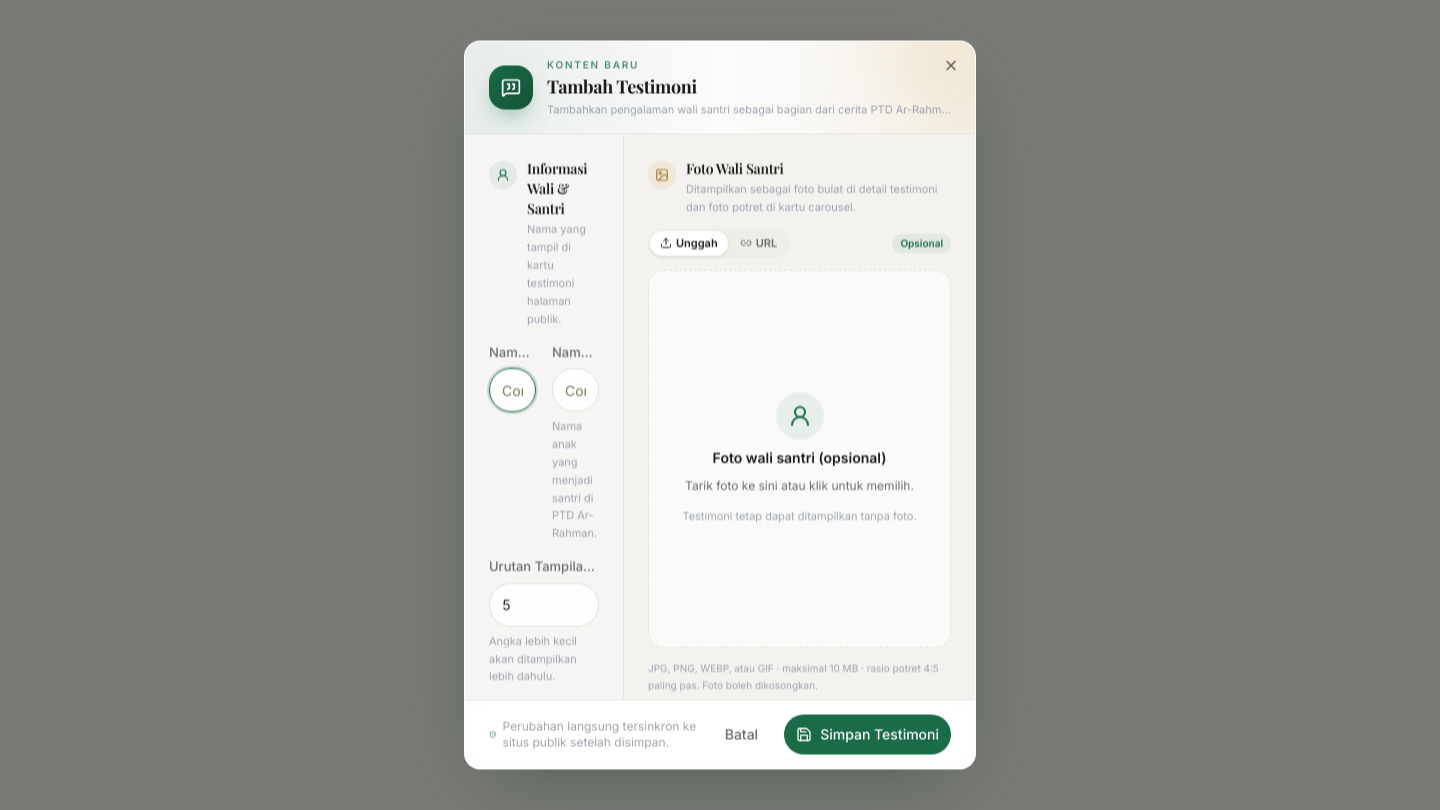
Test: TestimonialFormDialog — validasi › mewajibkan nama wali dan nama santri lalu memfokuskan field pertama
The image size is (1440, 810).
Click the button "Simpan Testimoni" at x=868, y=734, box left=784, top=714, right=951, bottom=754
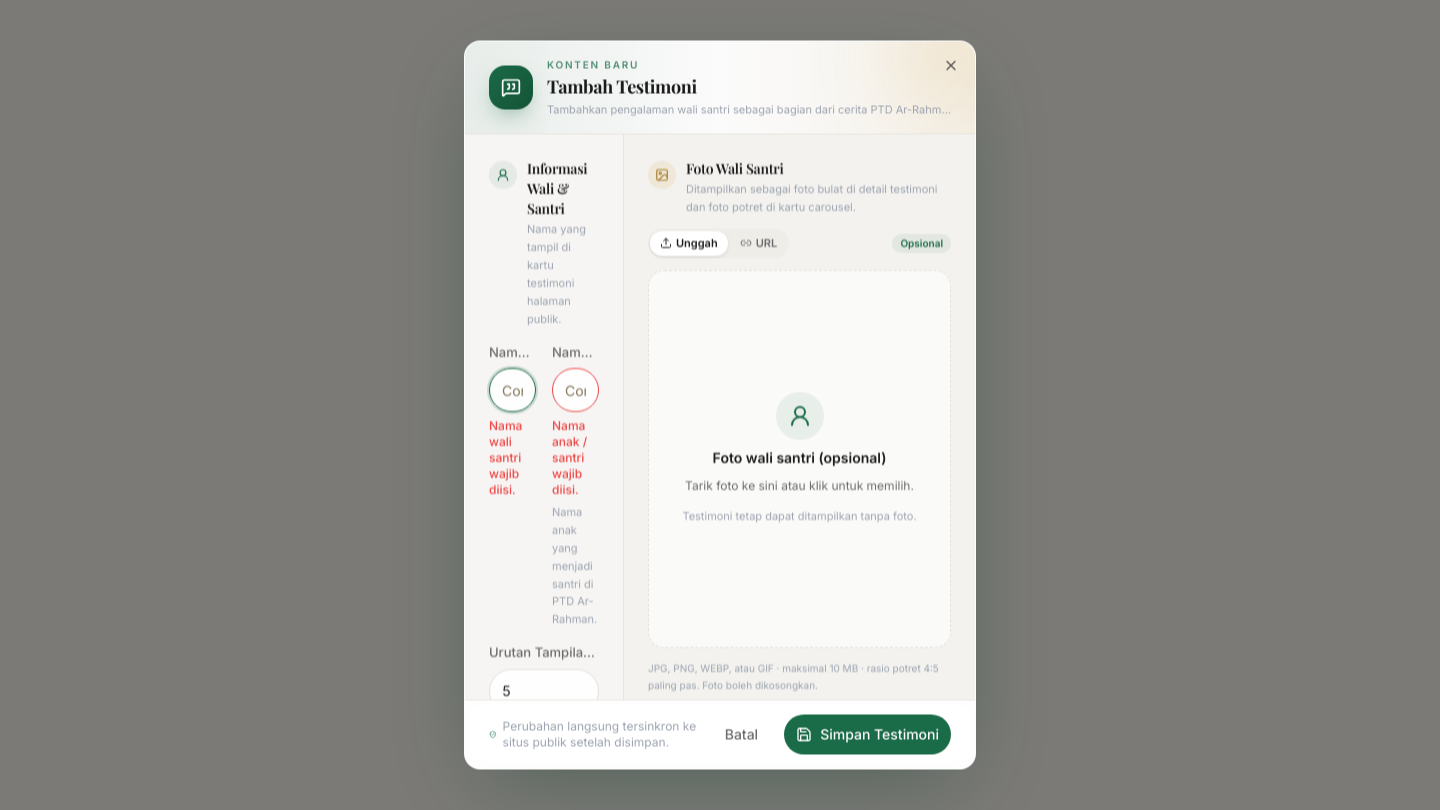
expect the text "Nama wali santri wajib diisi." is shown: met, box left=489, top=418, right=522, bottom=496
expect the text "Nama anak / santri wajib diisi." is shown: met, box left=552, top=418, right=587, bottom=496
